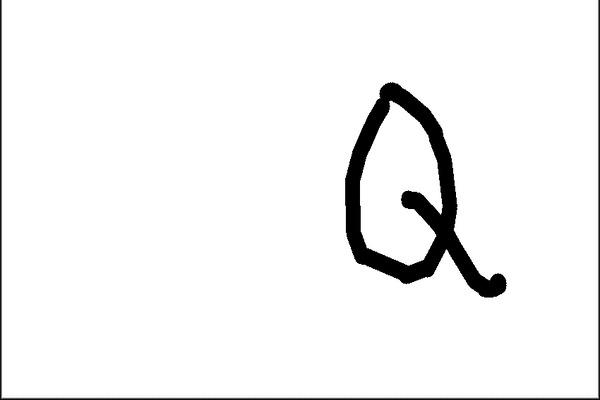Q: (330, 71, 513, 313)
